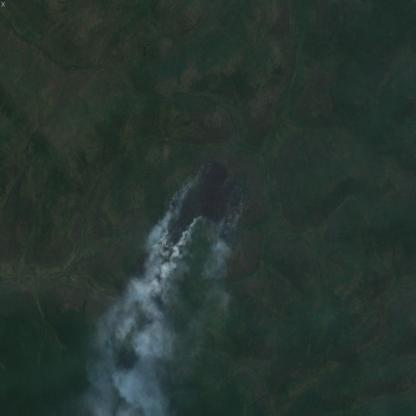fire: (164, 154, 250, 247)
